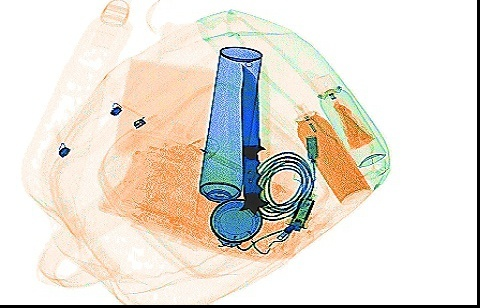knife: (234, 59, 269, 215)
pressure: (191, 43, 263, 226), (291, 99, 371, 204), (312, 70, 387, 169)
